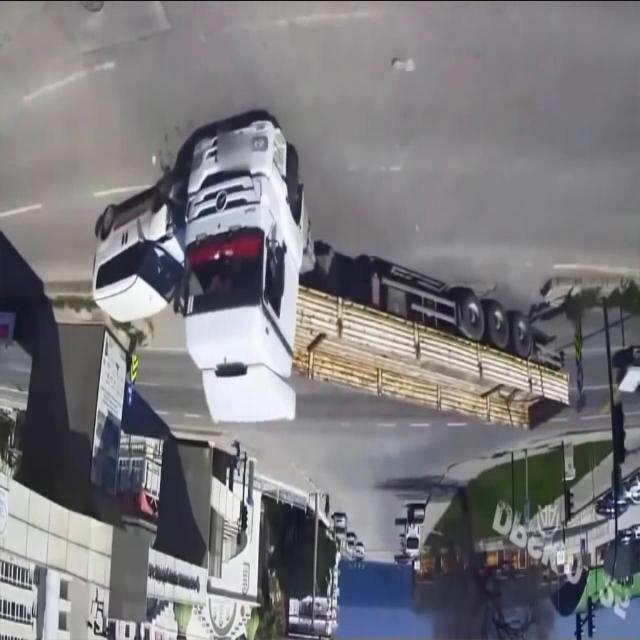severe: (89, 108, 574, 436)
